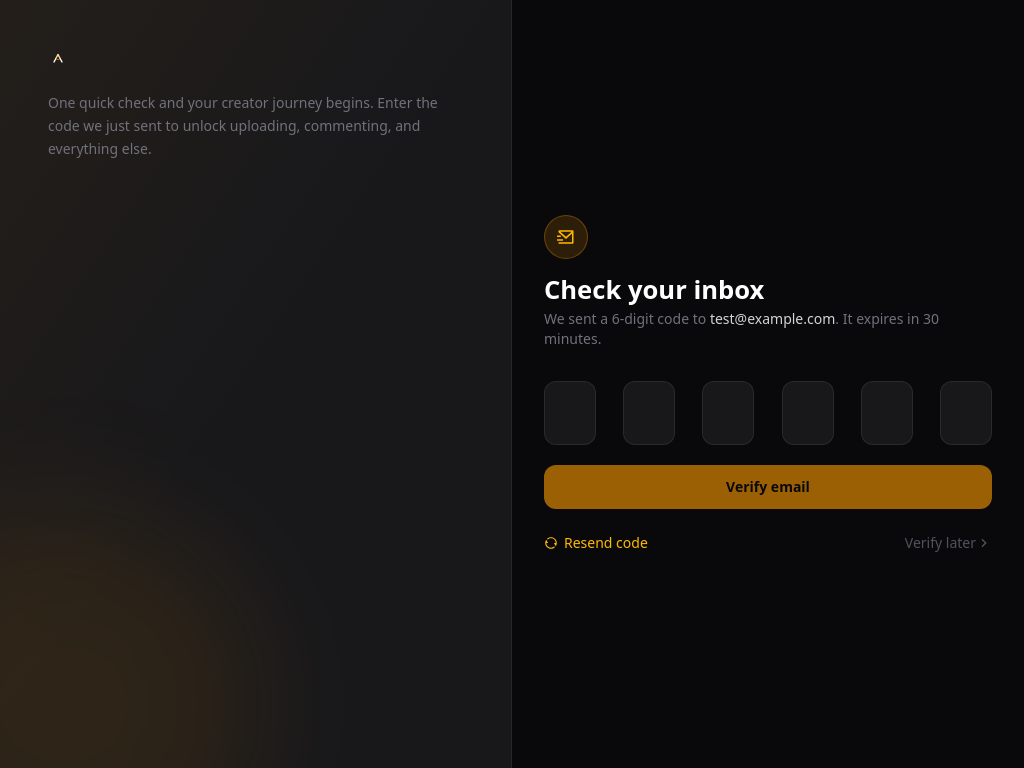
Test case: VerifyOtp › shows the API error and clears the boxes on a failed verification
Type "000000" into the field named "Digit 1" at (570,413), box [544,381,596,445]
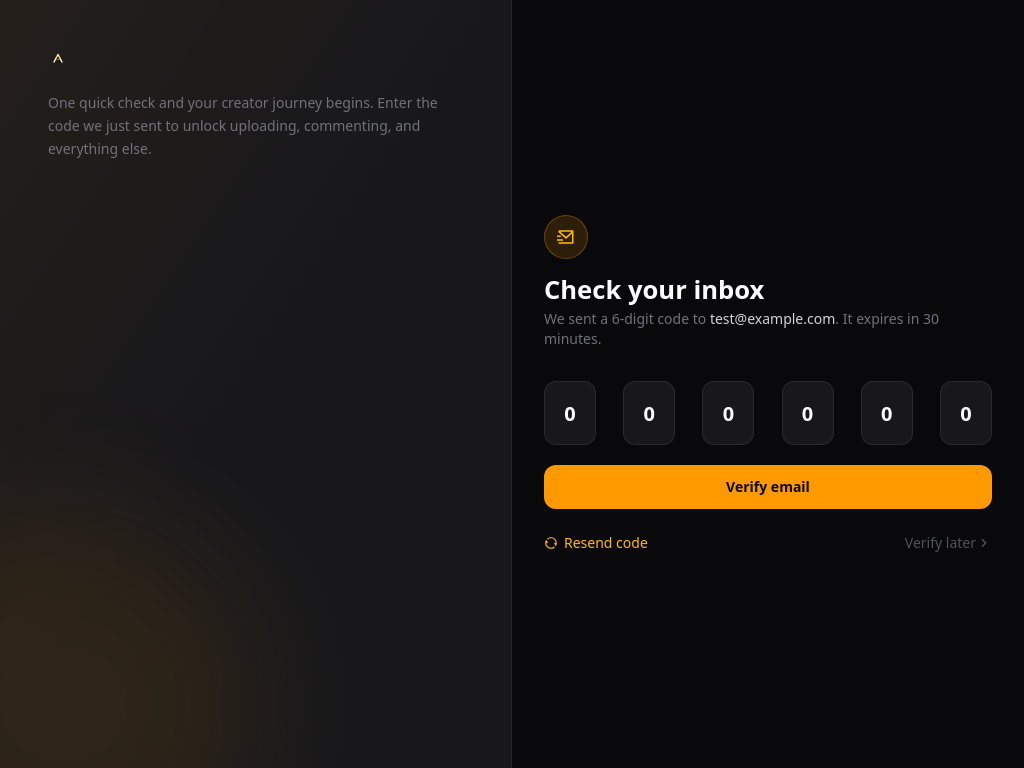
Click the button "Verify email" at (768,487), box [544,465,992,509]
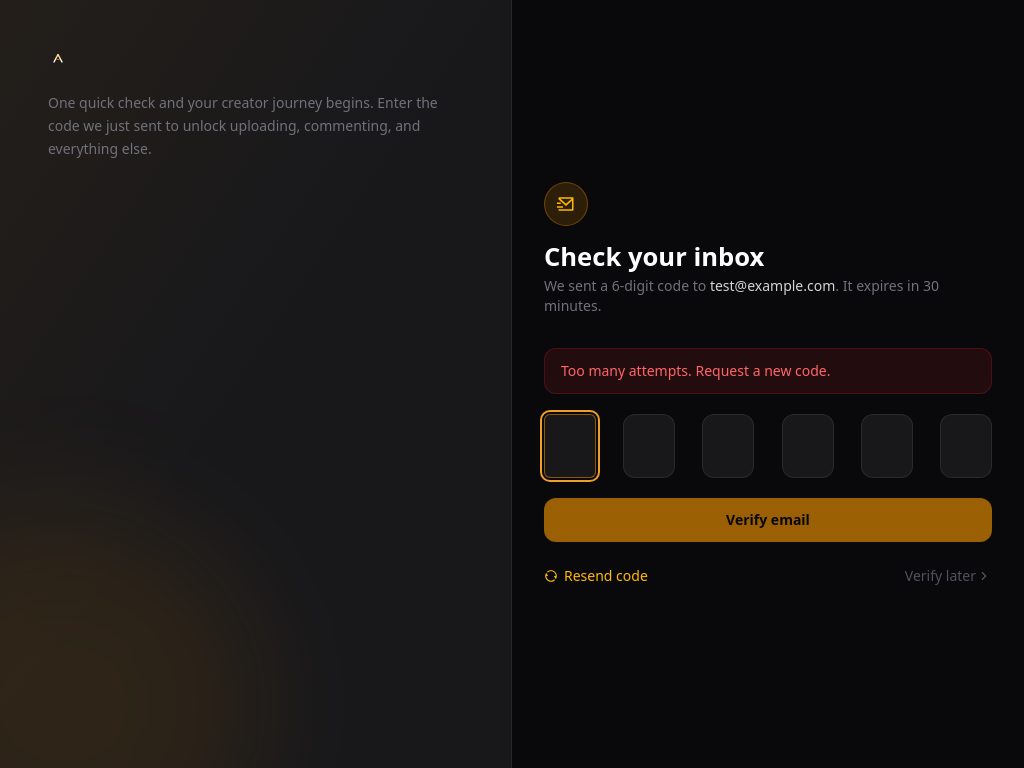
Expected: the text "Too many attempts. Request a new code." is shown, [544,348,992,394]
Expected: the field named "Digit 1" is empty, [544,414,596,478]
Expected: the field named "Digit 2" is empty, [623,414,675,478]
